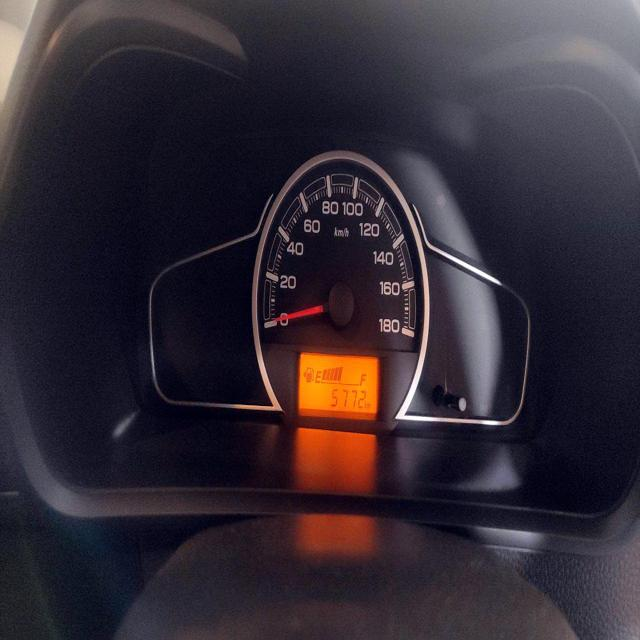odometer: (330, 384, 367, 414)
